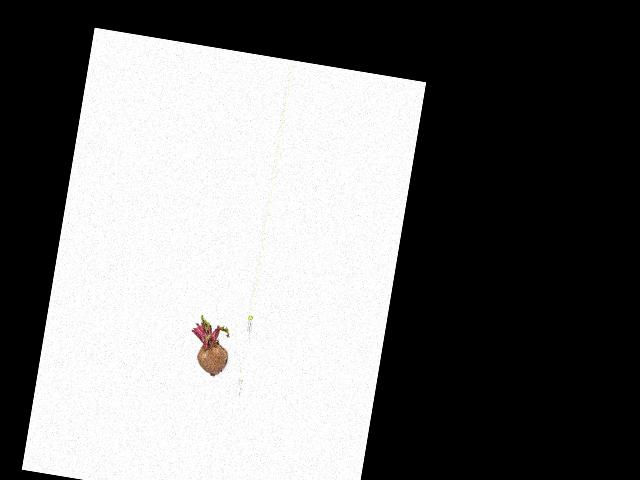beet: (185, 314, 233, 378)
